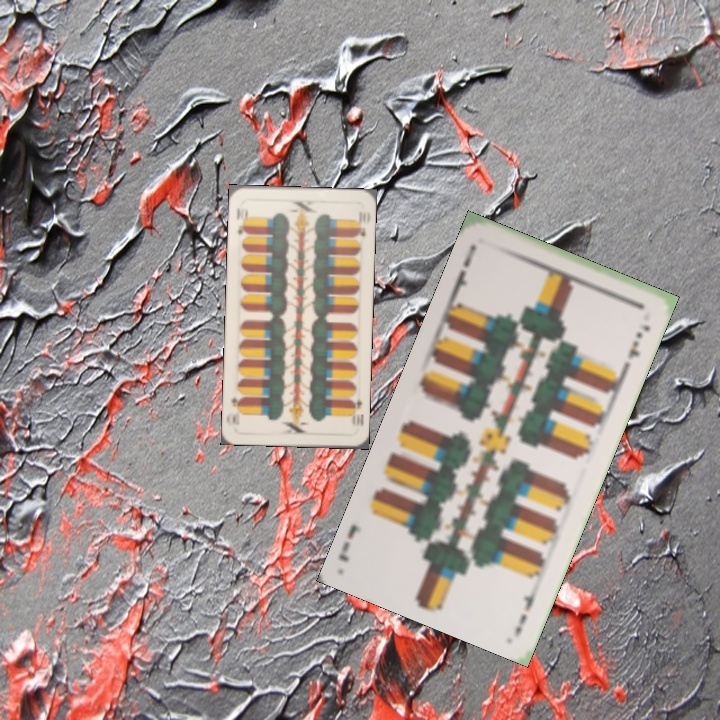E10: (233, 204, 251, 237), (346, 395, 364, 427)
E7: (448, 239, 480, 296), (511, 580, 543, 636)
